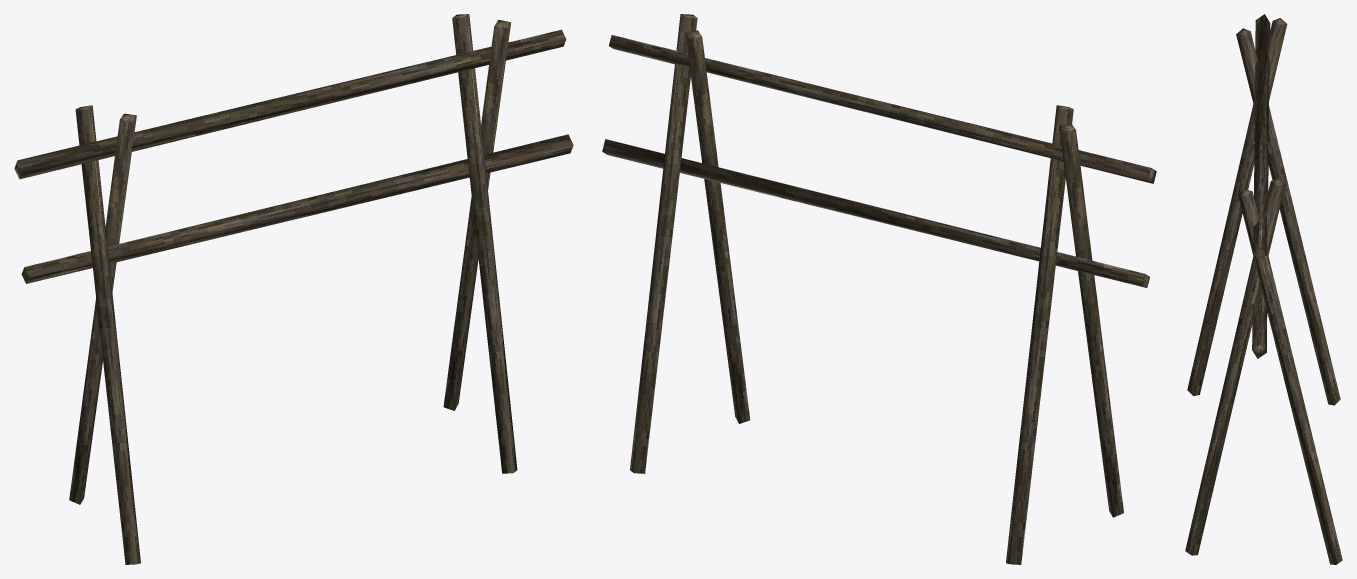
File: thm_dant_fence_4m_l3.fbx
3 renders of one model, left to right at view 1: azimuth 30°, elevation 25°; view 2: azimuth 150°, elevation 25°; view 3: azimuth 270°, elevation 25°, orthographic. The views are drawn at different scales.
Parts seen in each view (by area): view 1: mesh_node; view 2: mesh_node; view 3: mesh_node.
Boxes of the visible parts, left/top/right/bottom form: mesh_node: left=14, top=14, right=573, bottom=564; mesh_node: left=602, top=14, right=1156, bottom=564; mesh_node: left=1185, top=14, right=1342, bottom=564.
Size of the model in its own units: 3.97 by 2.95 by 1.12.
